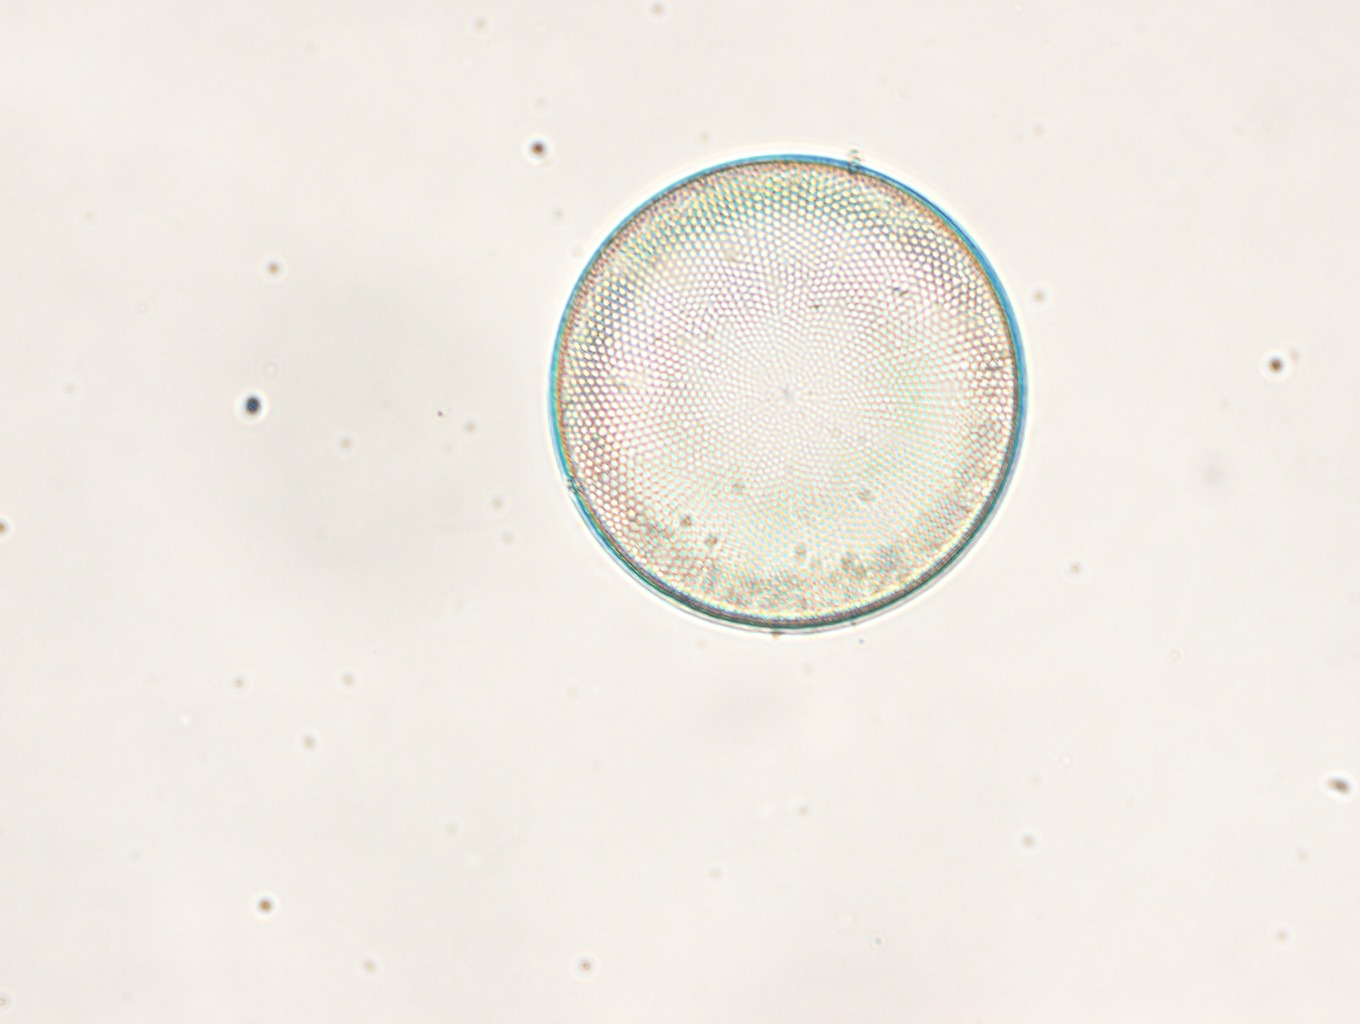coscinodiscus: (548, 155, 1027, 634)
